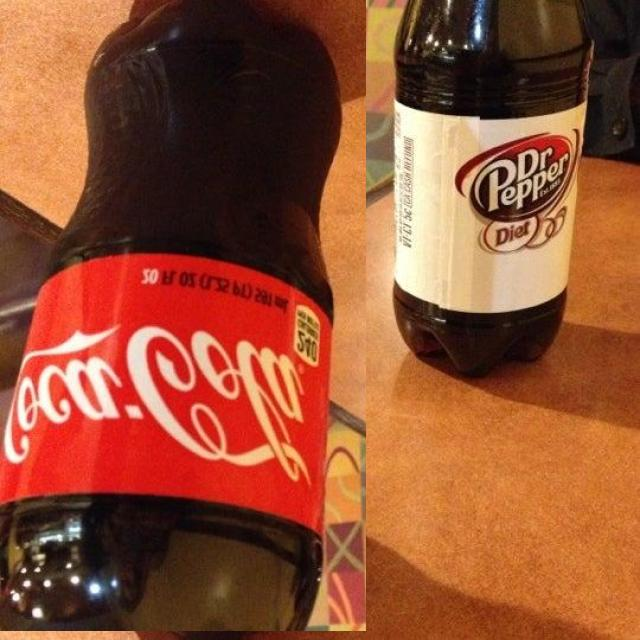coca-cola: (0, 0, 366, 631)
